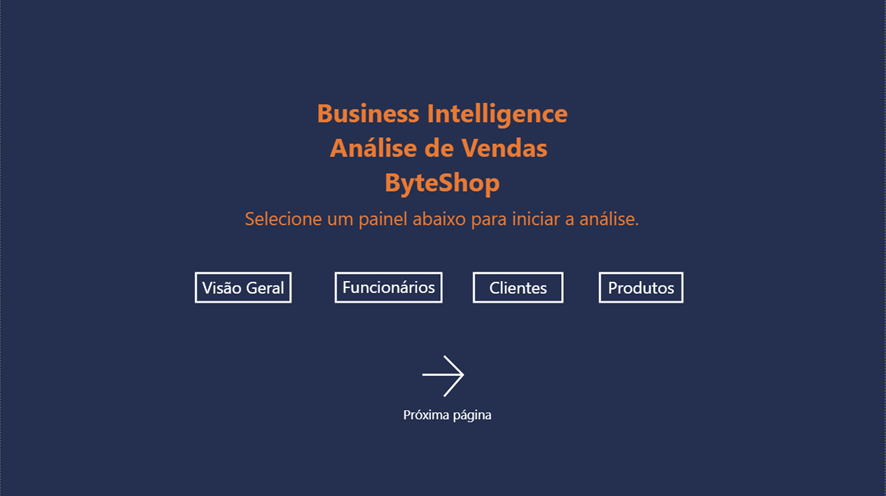

The dashboard page shown, as its layout file describes it:
{"tool":"powerbi","page":{"name":"Início","canvas":[1280,720],"ordinal":0},"visuals":[{"type":"textbox","box":[421.2,132.5,436.2,160],"z":0},{"type":"textbox","box":[323.8,292.5,630,67.5],"z":1000},{"type":"textbox","box":[281.2,395,140,43.8],"z":2000},{"type":"textbox","box":[483.8,393.8,156.2,43.8],"z":3000},{"type":"textbox","box":[683.8,395,131.2,43.8],"z":4000},{"type":"textbox","box":[866.2,395,122.5,43.8],"z":5000},{"type":"actionButton","box":[683.8,393.8,131.2,45],"z":6000},{"type":"actionButton","box":[483.8,393.8,156.2,45],"z":7000},{"type":"actionButton","box":[281.2,393.8,140,45],"z":8000},{"type":"actionButton","box":[866.2,393.8,122.5,45],"z":9000},{"type":"actionButton","box":[602.5,506.2,75,76.2],"z":10000},{"type":"textbox","box":[562.5,582.5,168.8,52.5],"z":11000}]}

Visuals, with their boxes in screenshot pixels (x1, y1, x2, y2), scaled from the page's 1280x720 canvas onto the 886x496 screenshot:
textbox: box(292, 91, 593, 202)
textbox: box(224, 202, 660, 248)
textbox: box(195, 272, 292, 302)
textbox: box(335, 271, 443, 301)
textbox: box(473, 272, 564, 302)
textbox: box(600, 272, 684, 302)
actionButton: box(473, 271, 564, 302)
actionButton: box(335, 271, 443, 302)
actionButton: box(195, 271, 292, 302)
actionButton: box(600, 271, 684, 302)
actionButton: box(417, 349, 469, 401)
textbox: box(389, 401, 506, 437)
